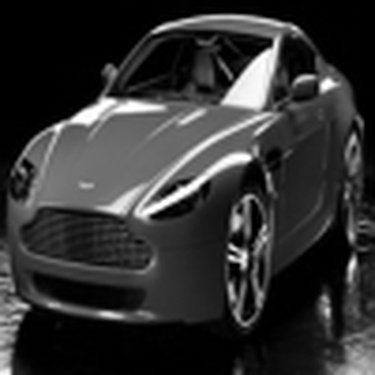car: (1, 11, 370, 371)
